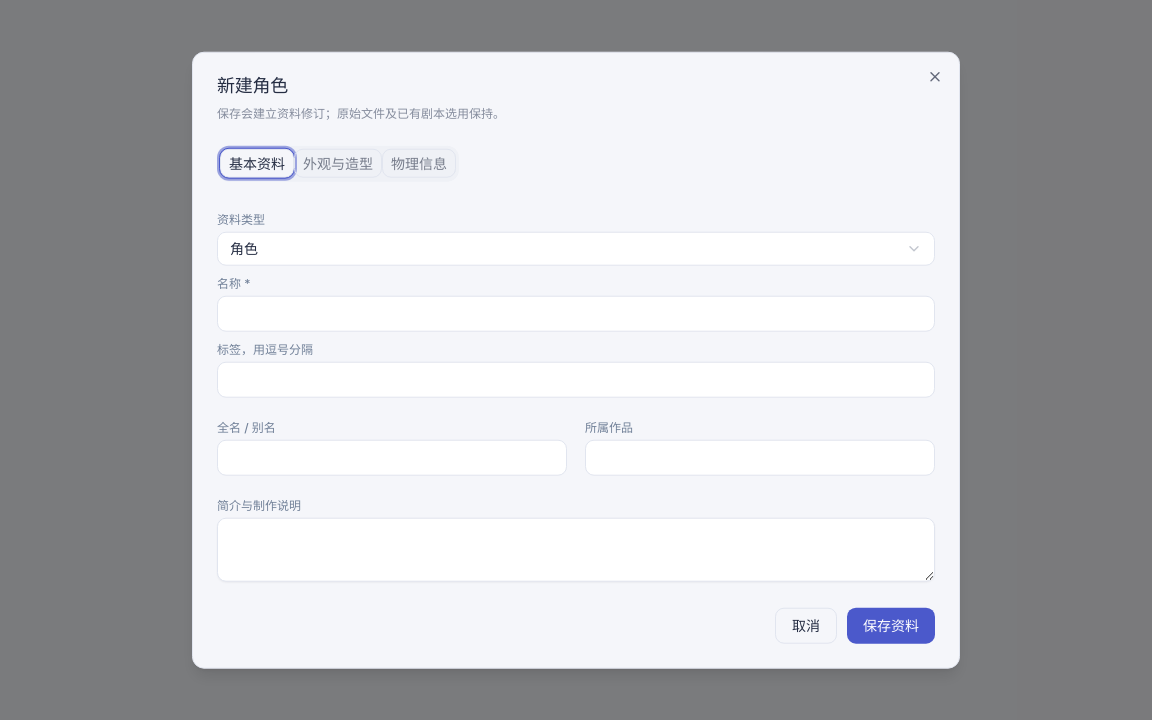
Test case: Character editing › requires a source before saving a numeric height
Type "新角色" into the field labelled "名称 *".
click(576, 313); type("新角色")  # box [217,295,935,331]
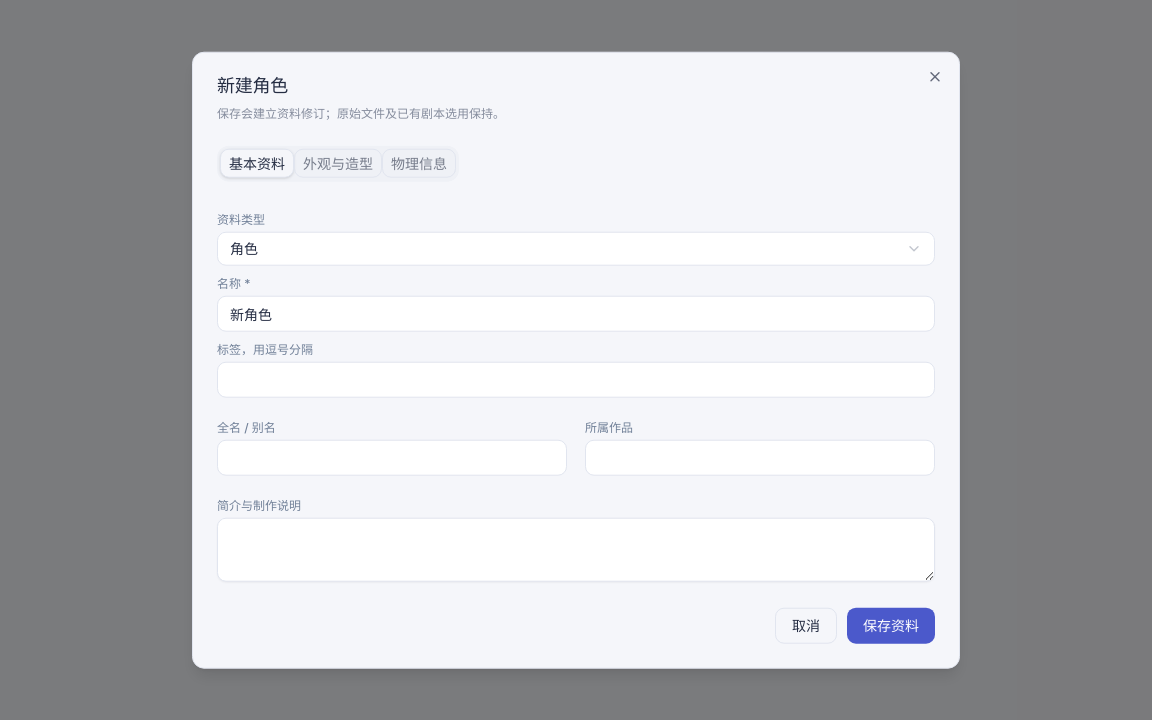
Click the tab "物理信息".
click(419, 163)  # box [382,149,456,178]
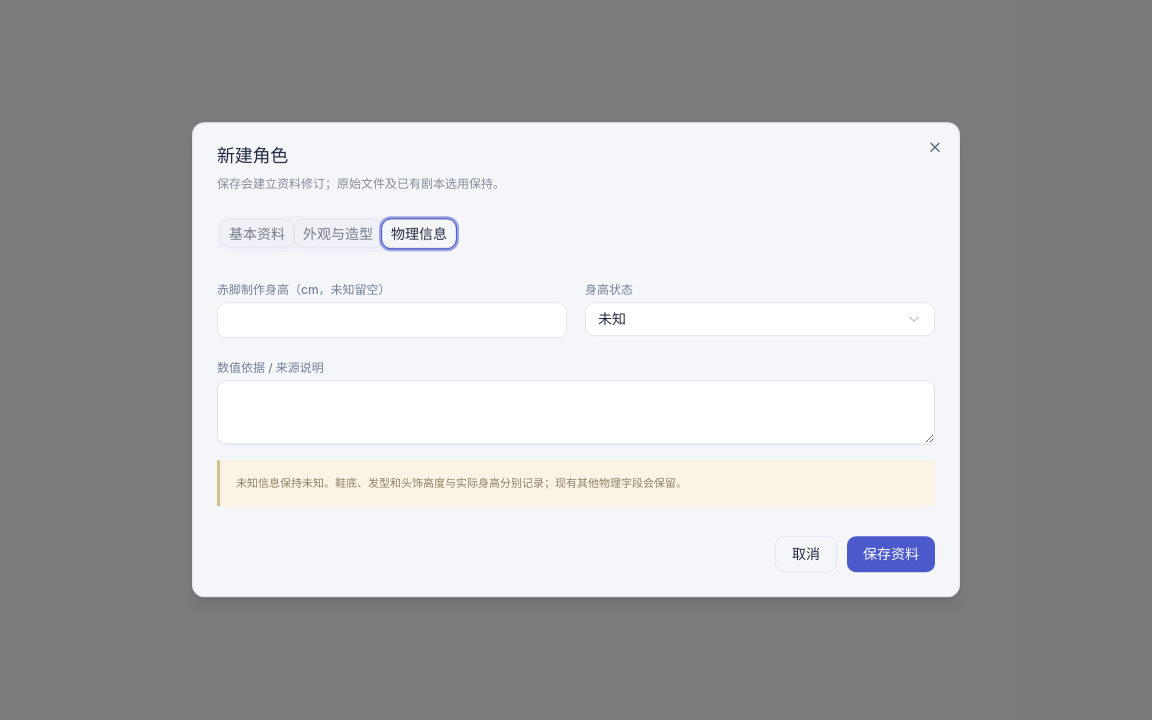
Type "170" into the field labelled "赤脚制作身高（cm，未知留空）".
click(392, 320); type("170")  # box [217,302,567,338]
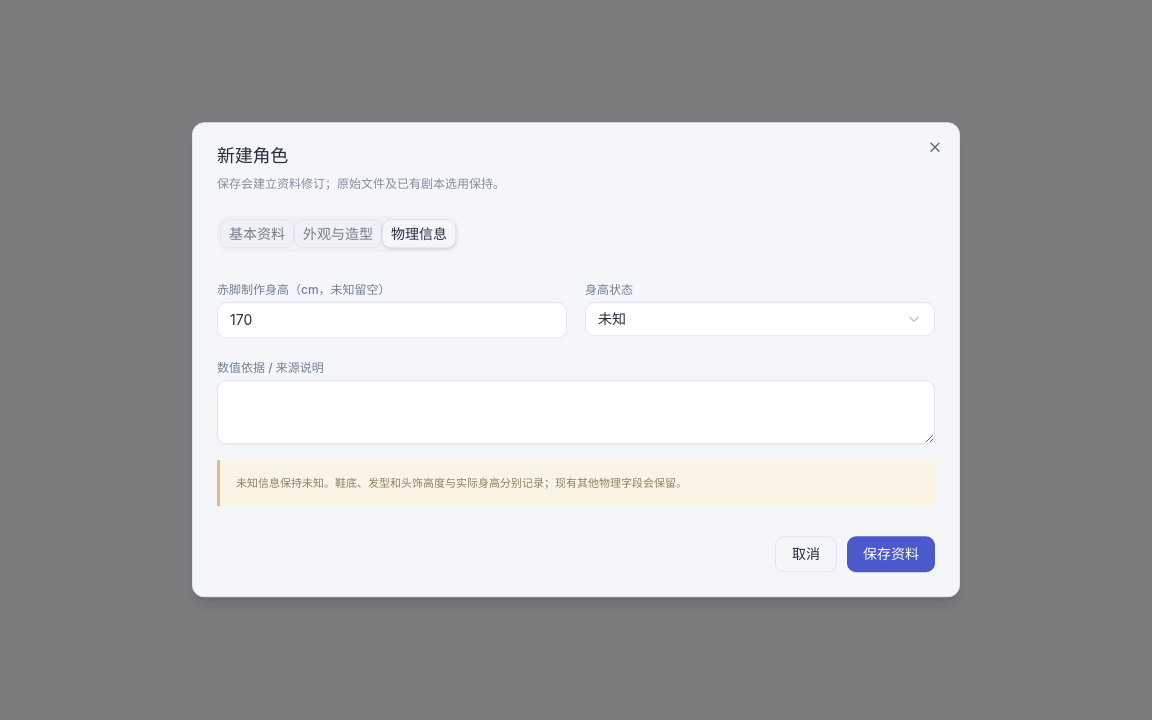
Click the button "保存资料".
click(891, 555)  # box [847,537,935,573]
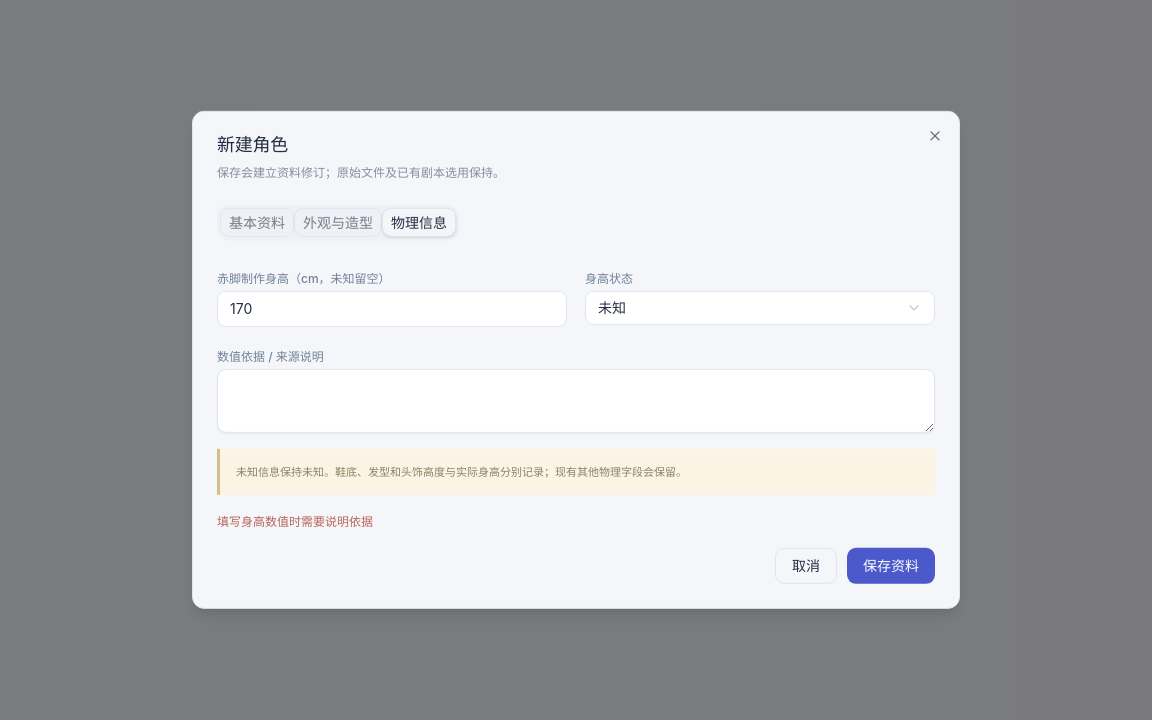
Now the text "填写身高数值时需要说明依据" is shown, box [217,514,373,529]
